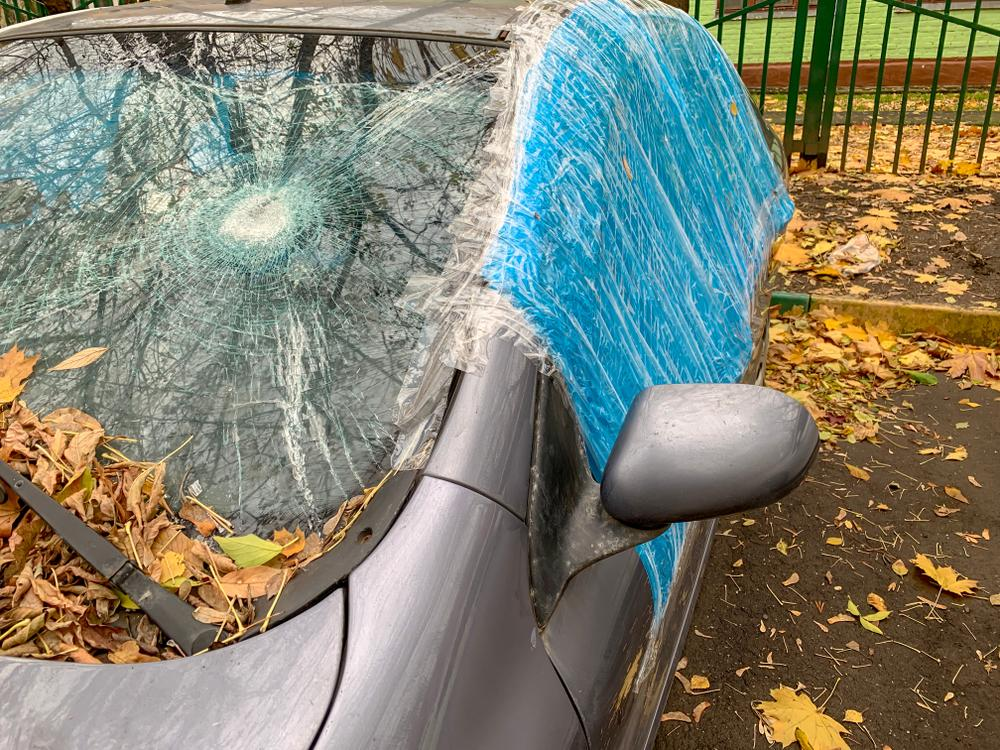glass shatter: (0, 30, 513, 534)
